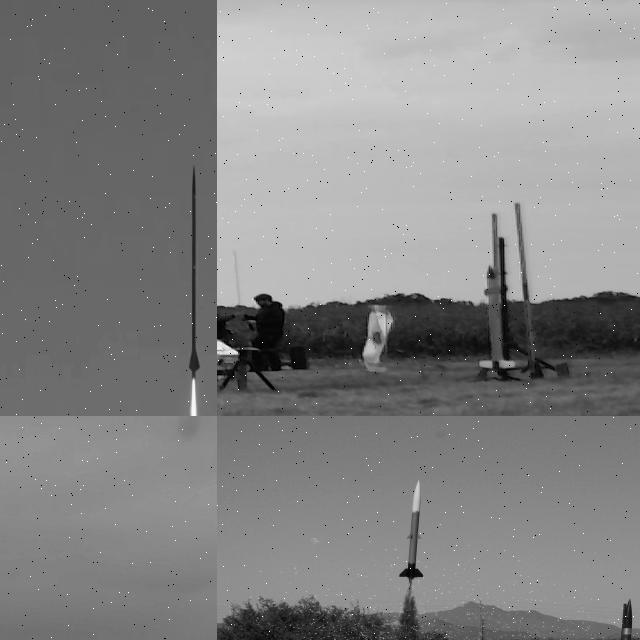Rocket: (478, 264, 518, 370), (188, 167, 200, 385), (398, 480, 424, 580), (601, 597, 635, 640)
